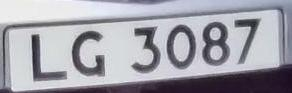0: (164, 20, 199, 74)
3: (124, 20, 165, 80)
7: (230, 13, 265, 66)
8: (198, 18, 233, 68)
G: (67, 26, 112, 81)
L: (23, 27, 68, 87)
